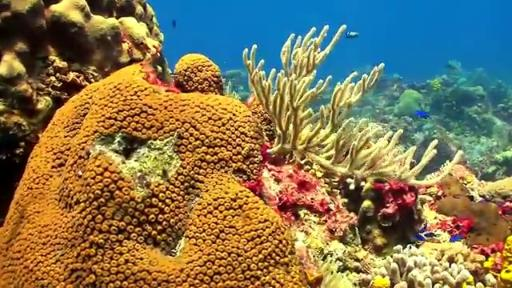Fish: (415, 224, 436, 241), (415, 109, 430, 119), (449, 235, 463, 242), (346, 32, 359, 38), (172, 20, 176, 28)
